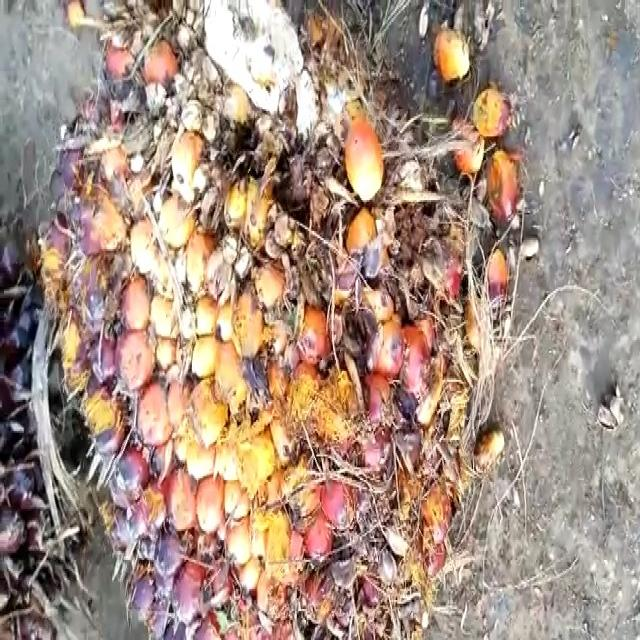palm oil: (40, 0, 560, 636)
